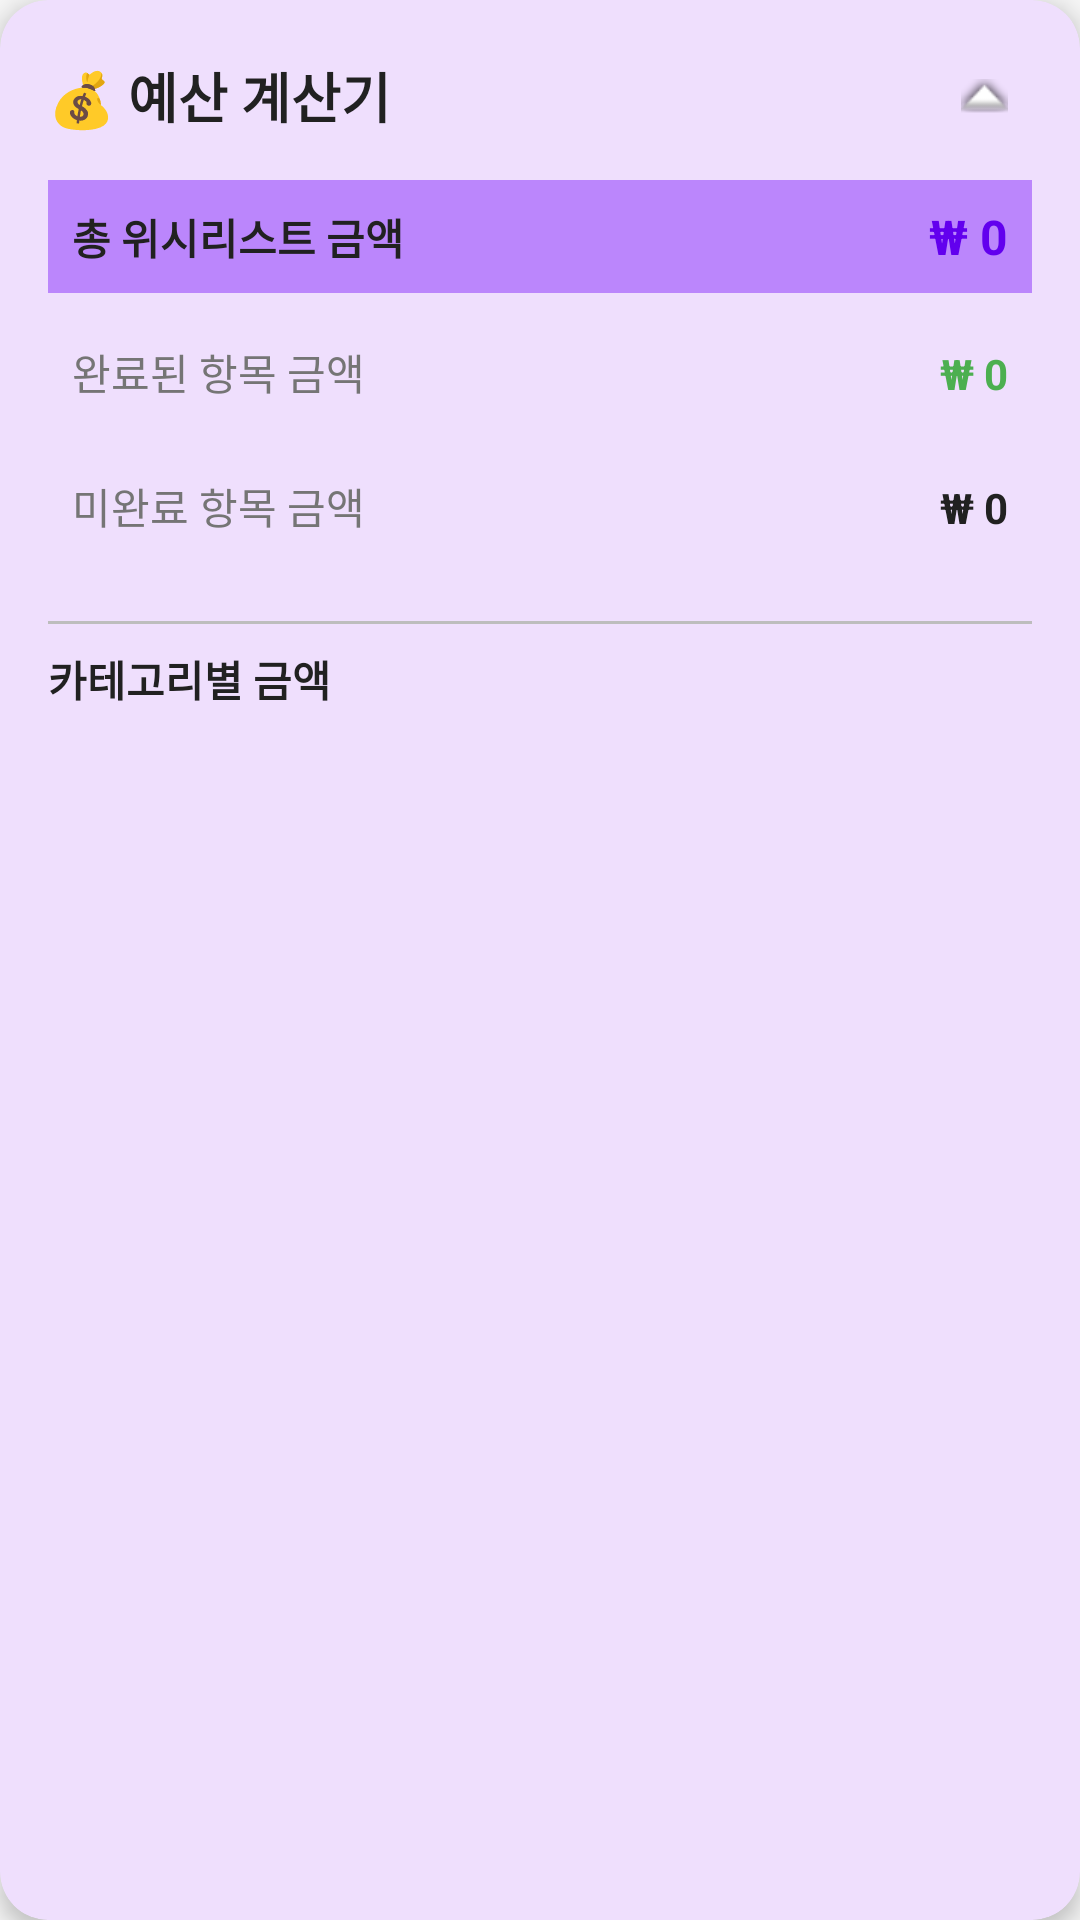

Where icons sit on this 1080px x 1920px app screen, as (x1, y1, x2, y2):
접기/펼치기: (961, 80, 1008, 112)
